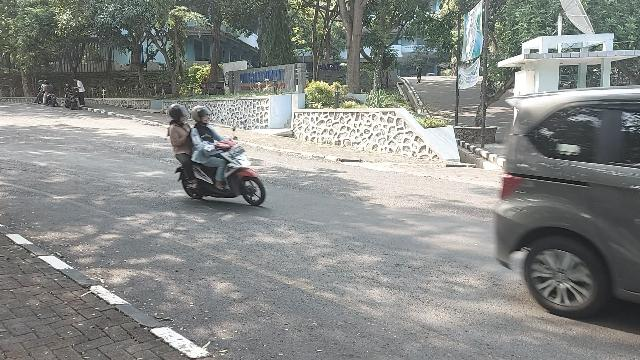helm: (170, 105, 191, 124), (193, 107, 214, 125)
motor: (176, 128, 267, 207)
